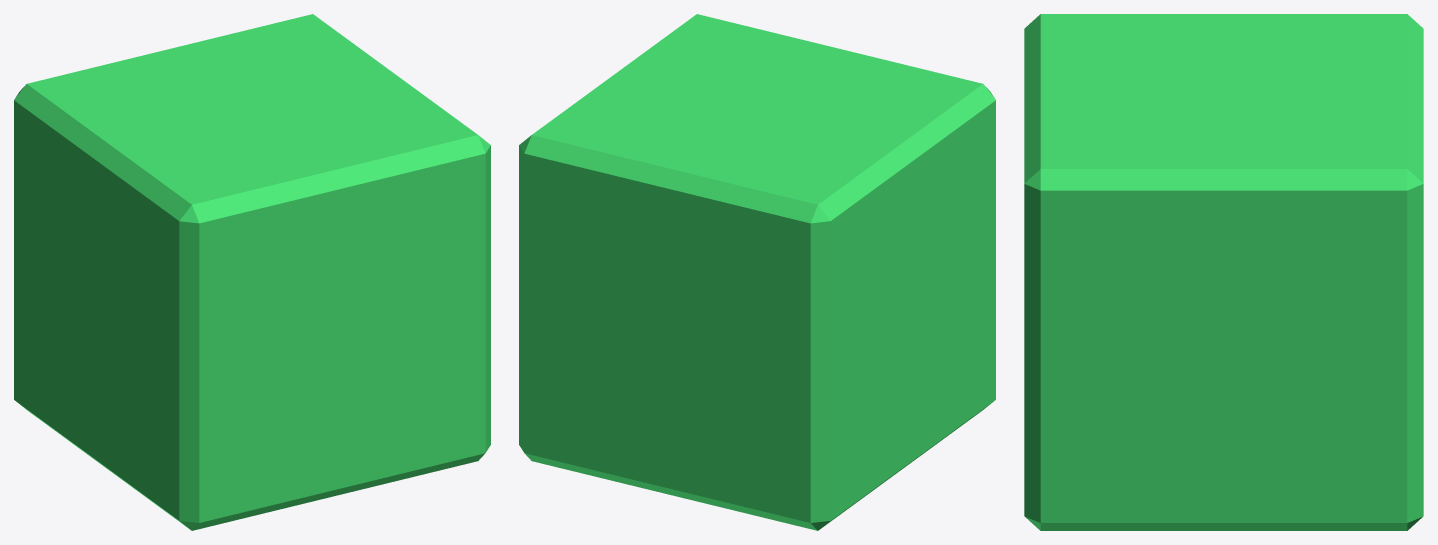
3 renders of one model, left to right at view 1: azimuth 30°, elevation 25°; view 2: azimuth 150°, elevation 25°; view 3: azimuth 270°, elevation 25°, orthographic. The views are drawn at different scales.
Parts seen in each view (by area): view 1: Cube; view 2: Cube; view 3: Cube.
Boxes of the visible parts, x1=… form: Cube: x1=14, y1=14, x2=490, y2=530; Cube: x1=519, y1=14, x2=995, y2=530; Cube: x1=1024, y1=14, x2=1423, y2=530.
Bounding box in the file's own units: 200 × 200 × 200.
